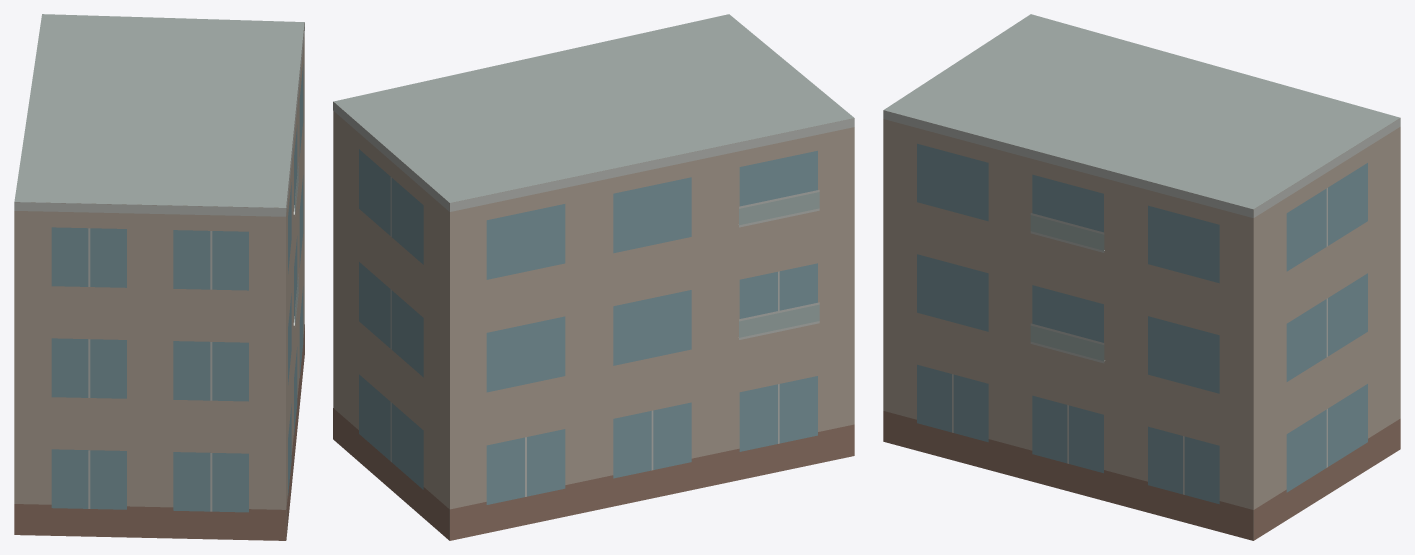
The model's file is survey-upis-32893184.glb.
3 views of the same model, side by side, from view 1: azimuth 30°, elevation 25°; view 2: azimuth 150°, elevation 25°; view 3: azimuth 270°, elevation 25° (orthographic).
Visible parts, largest first — view 1: survey-upis-32893184.tmp; view 2: survey-upis-32893184.tmp; view 3: survey-upis-32893184.tmp.
Part boxes in pixels (x1,y1,x2,y2): survey-upis-32893184.tmp: (14, 14, 304, 540); survey-upis-32893184.tmp: (333, 14, 854, 540); survey-upis-32893184.tmp: (883, 14, 1400, 540).
Bounding box in the file's own units: 11.57 × 9.15 × 12.95.
